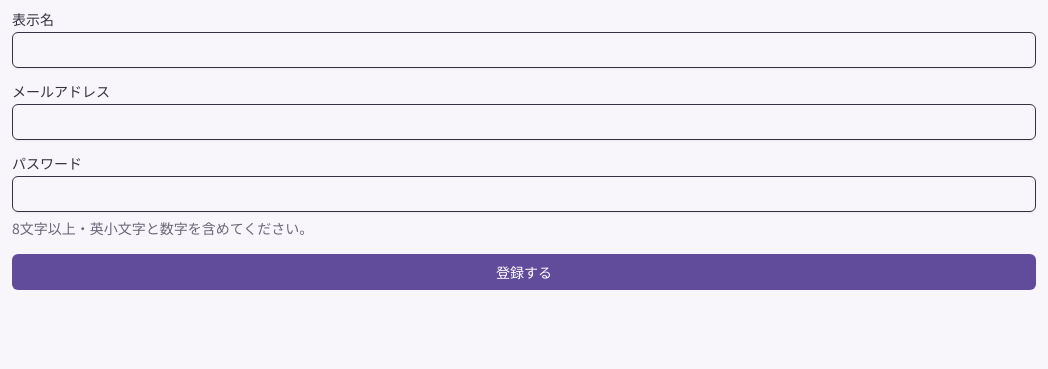
SignupForm › 登録済みメールアドレスの場合はエラーメッセージを表示する（B4）
Type "花子" into the field labelled "表示名" at (524,50), box [12,32,1036,68]
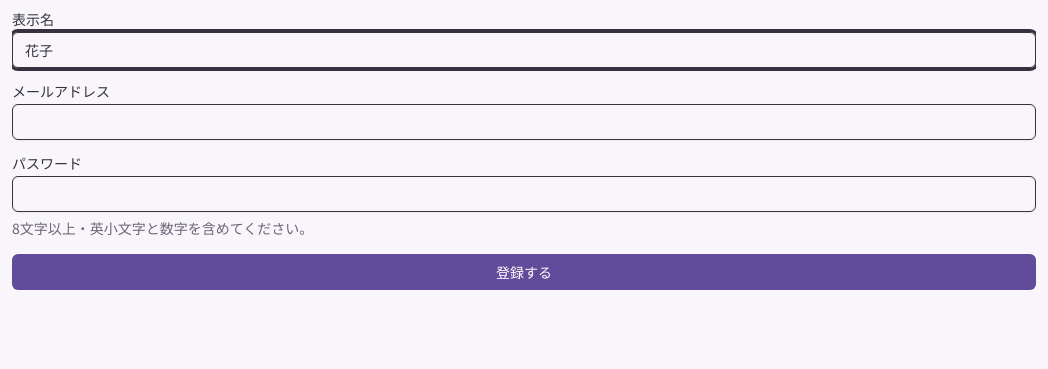
Type "hanako@example.com" into the field labelled "メールアドレス" at (524,122), box [12,104,1036,140]
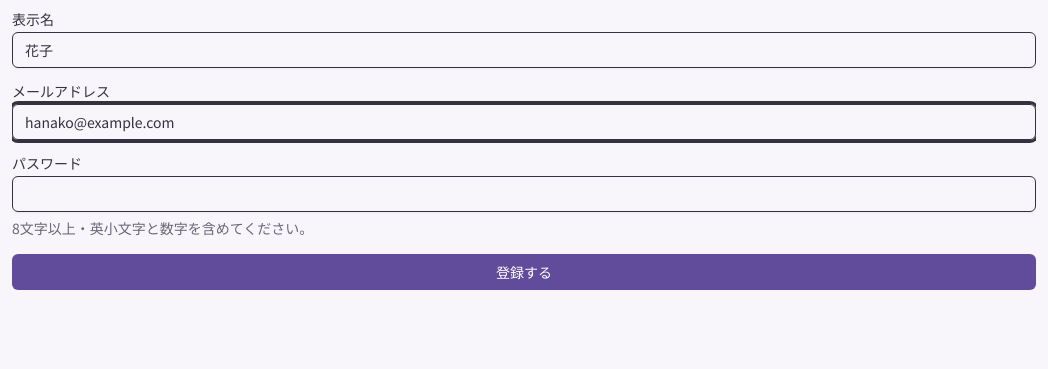
Type "abcd1234" into the password field labelled "パスワード" at (524,194), box [12,176,1036,212]
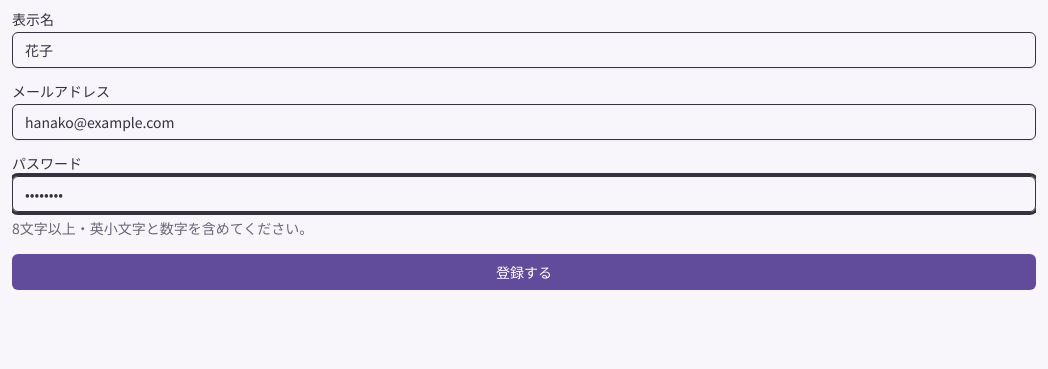
Click the button "登録する" at (524,272), box [12,254,1036,290]
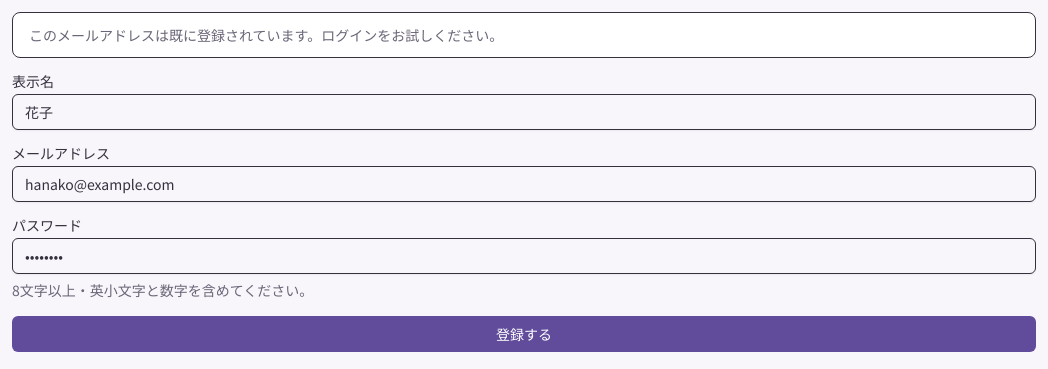
Expected: the text "このメールアドレスは既に登録されています。ログインをお試しください。" is shown, [29,25,503,45]
